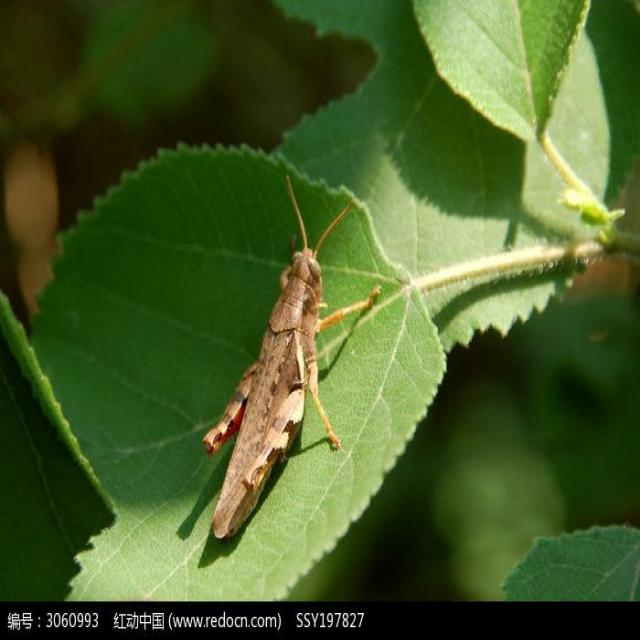ZhaMeng: (211, 221, 341, 526)
